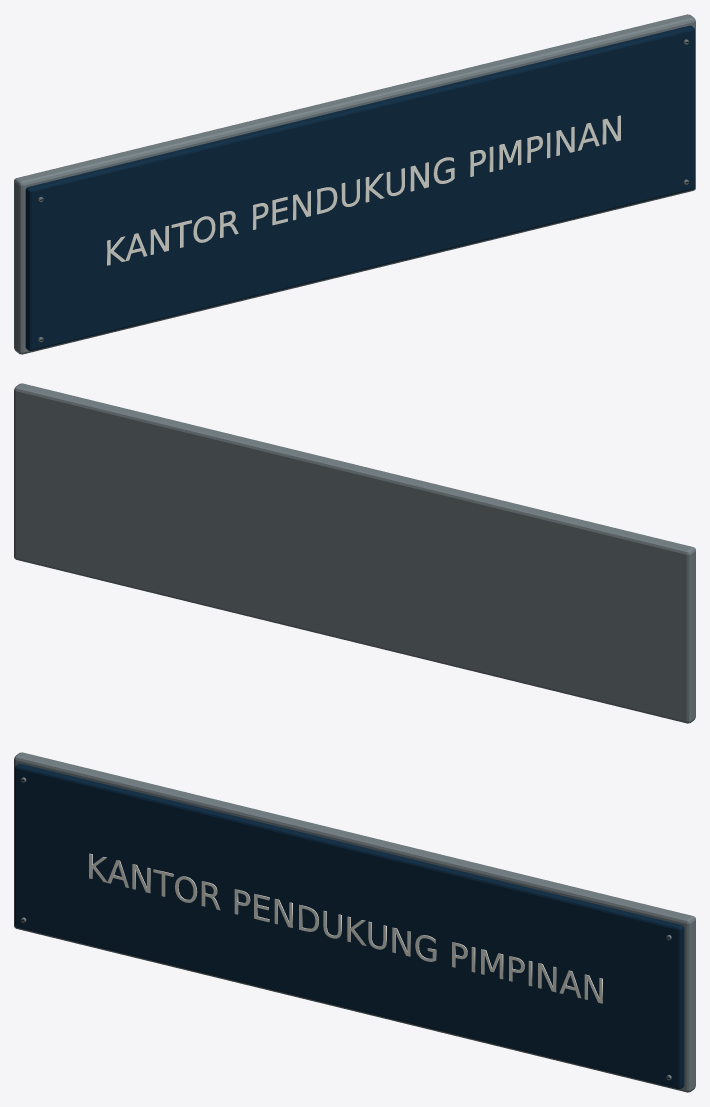
File: OAA_Papan_Ruang_Kantor_Pendukung_Pimpinan.fbx
The picture shows the model from 3 angles, top to bottom: view 1: azimuth 30°, elevation 25°; view 2: azimuth 150°, elevation 25°; view 3: azimuth 330°, elevation 25°; orthographic projection.
Visible parts, largest first — view 1: Body; view 2: Body; view 3: Body.
Boxes of the visible parts, <box> form: Body: <box>14,14,695,354</box>; Body: <box>14,383,695,723</box>; Body: <box>14,752,695,1092</box>.
Bounding box in the file's own units: 0.9 × 0.22 × 0.0312.
